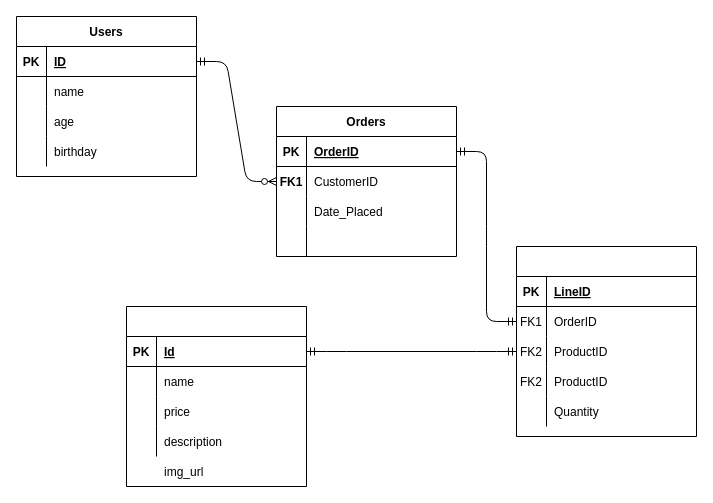
Image size: 713x503. Some labels were removed from this diagram. Here are the shapes that lost their labels. From the top down, the box of each, then its label:
(516, 246, 696, 436): OrderLines
(126, 306, 306, 486): Products
